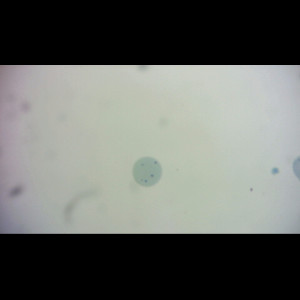punctate reticulocyte: (132, 156, 163, 187)
